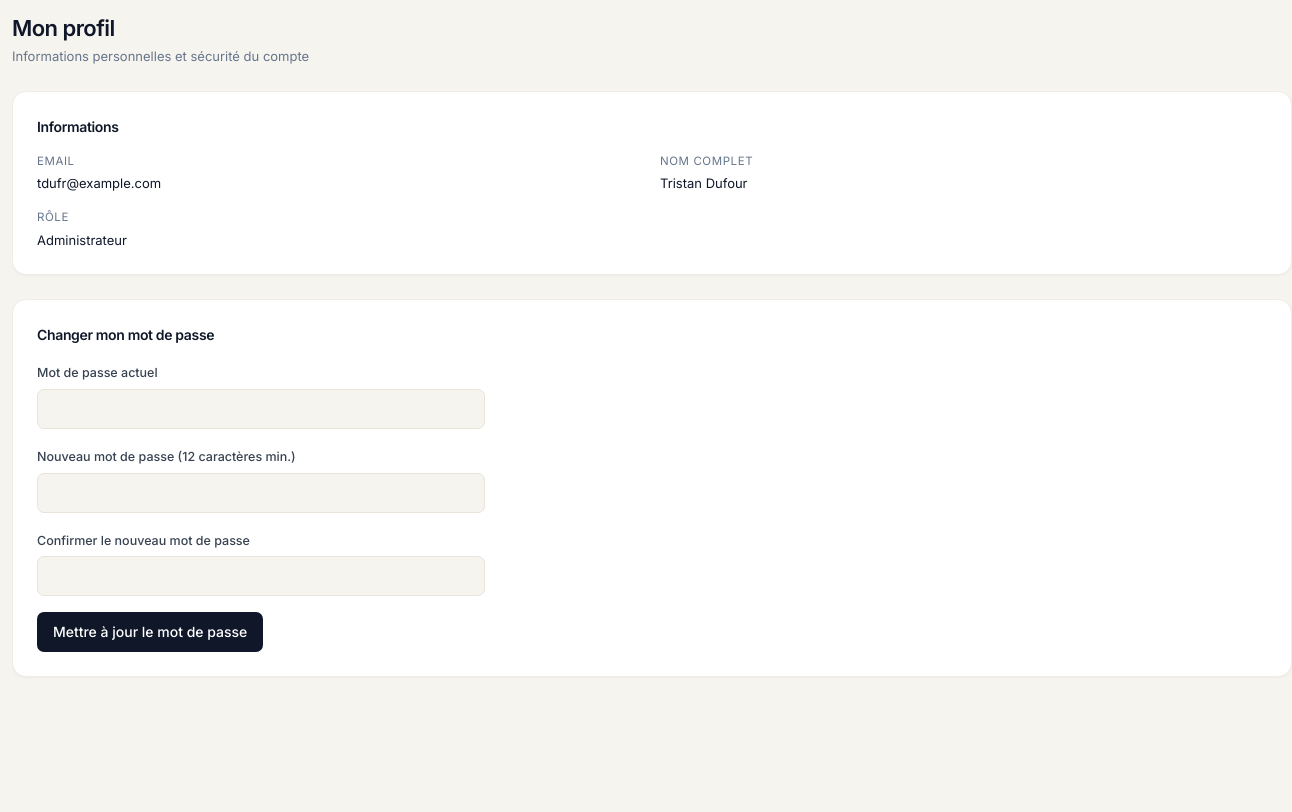
it: ProfilPage › submits and shows success message on happy path
Type "oldpassword12" into the password field labelled "Mot de passe actuel" at {"x": 261, "y": 409}, box [37,389,485,429]
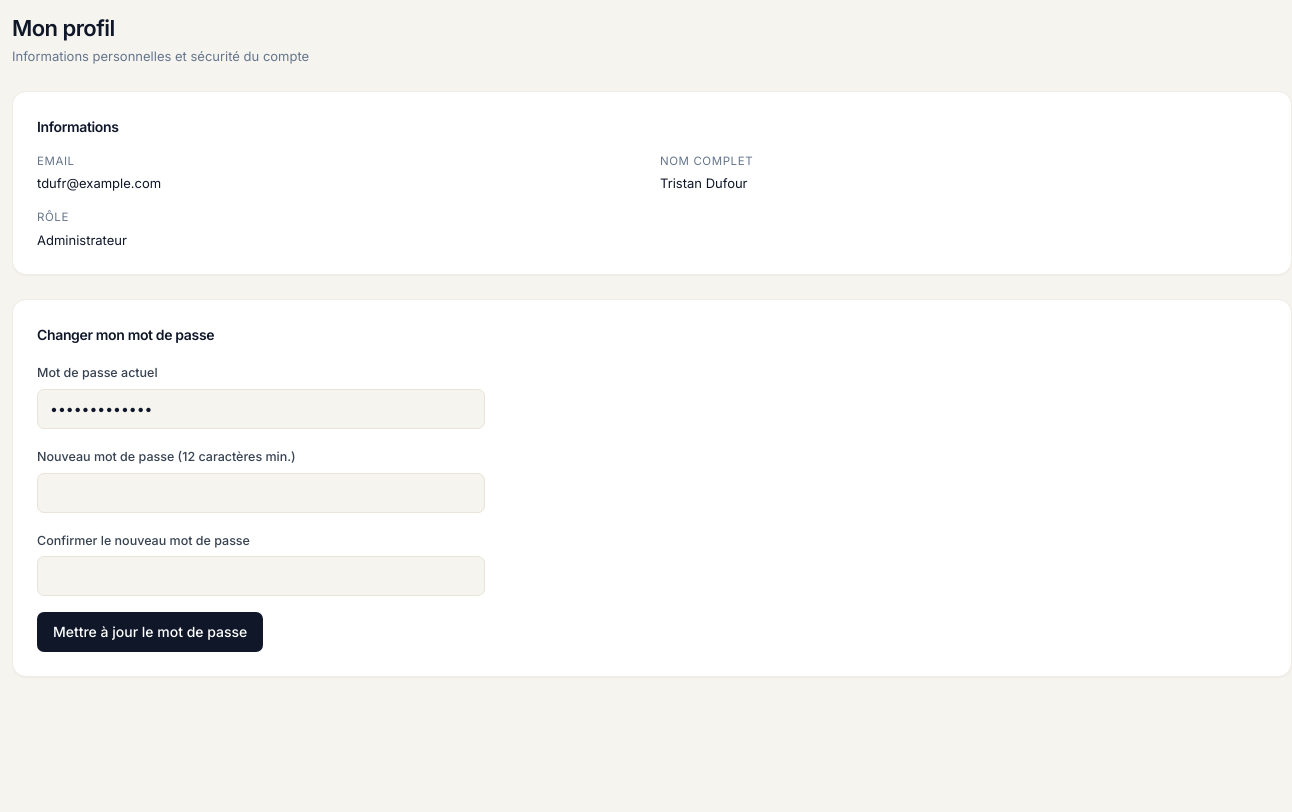
Type "newpassword1234" into the password field labelled "Nouveau mot de passe (12 caractères min.)" at {"x": 261, "y": 492}, box [37,472,485,512]
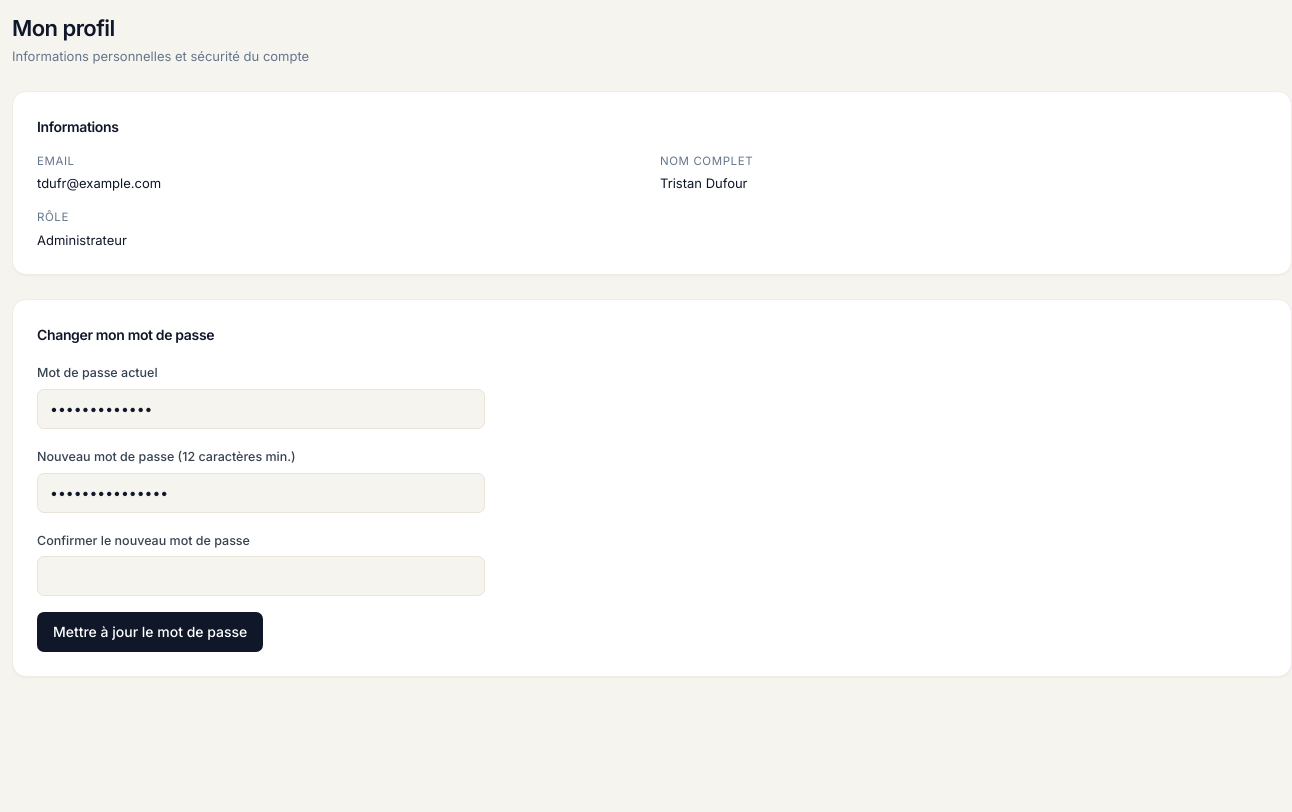
Type "newpassword1234" into the password field labelled "Confirmer le nouveau mot de passe" at {"x": 261, "y": 576}, box [37,556,485,596]
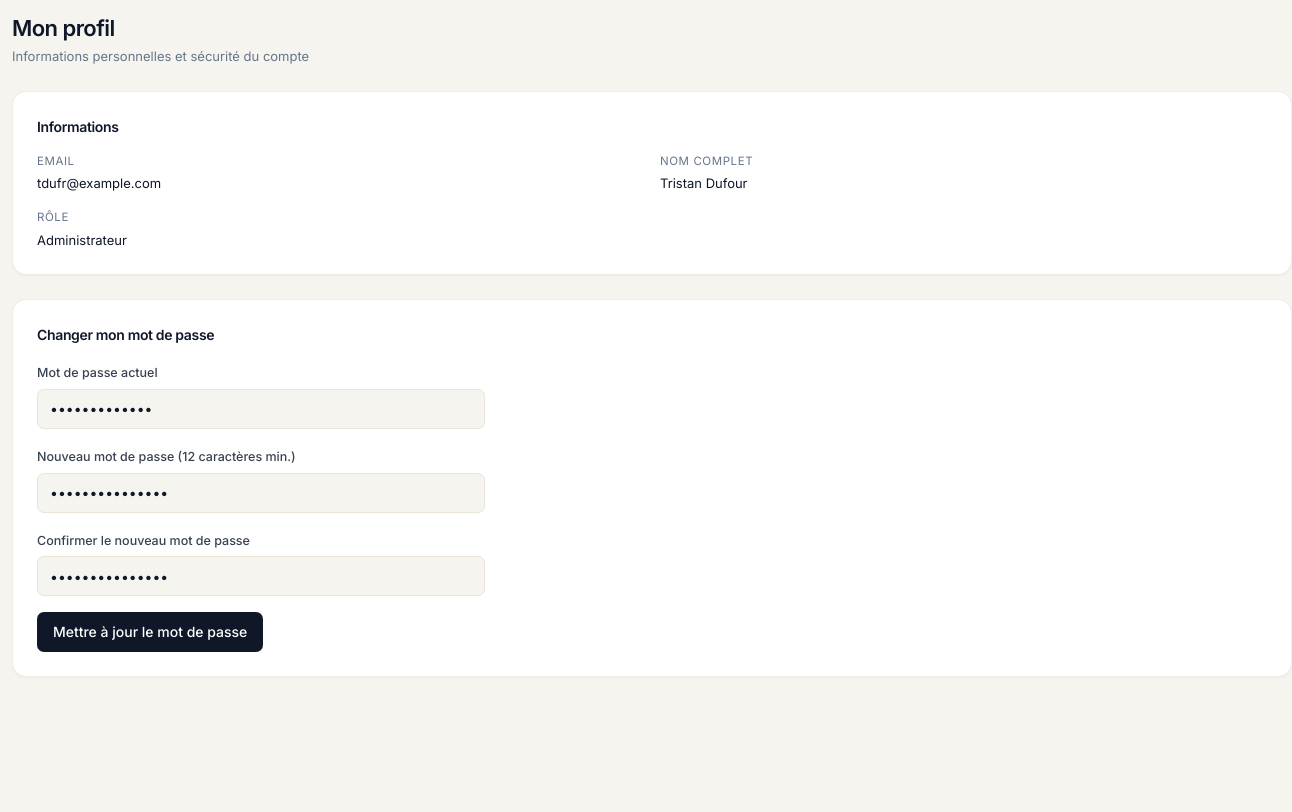
Click the button "Mettre à jour le mot de passe" at {"x": 150, "y": 632}, box [37,612,263,652]
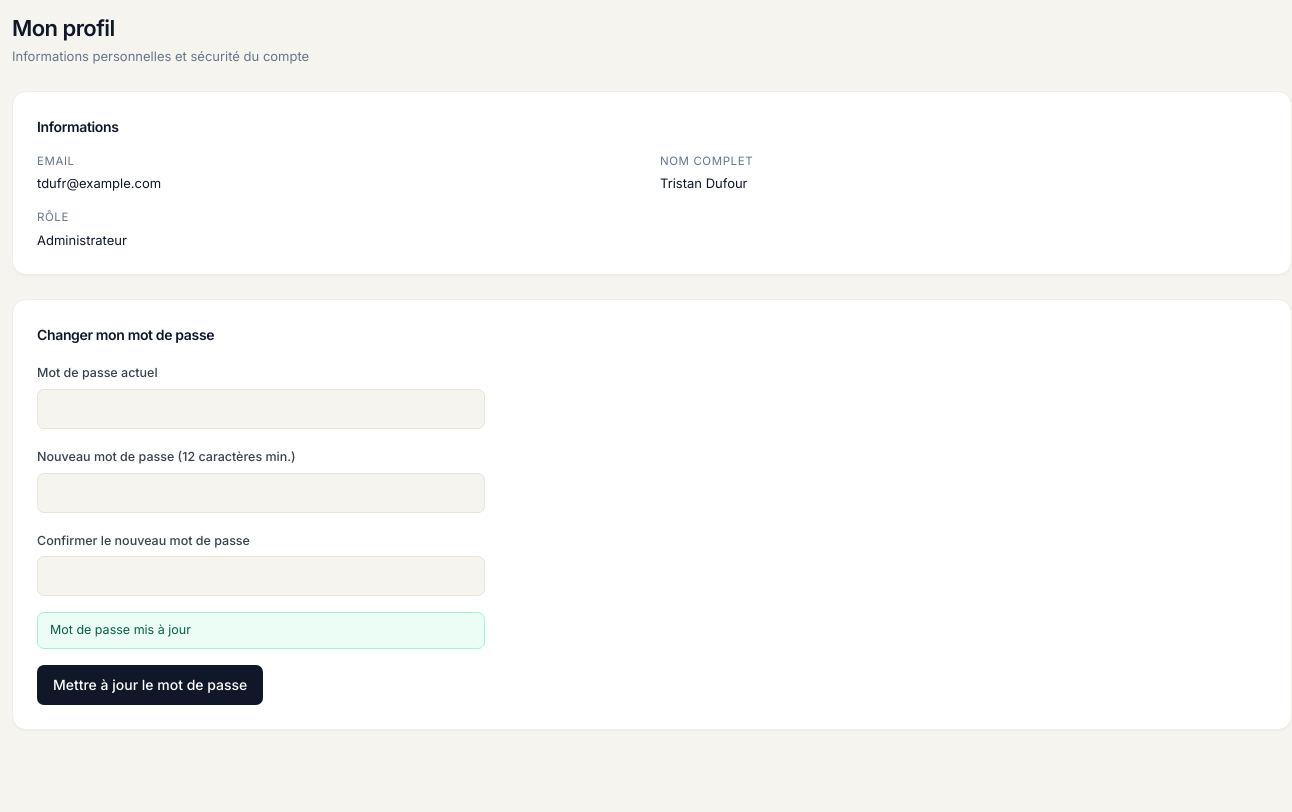
Expected: the text "Mot de passe mis à jour" is shown, [37,612,485,649]
